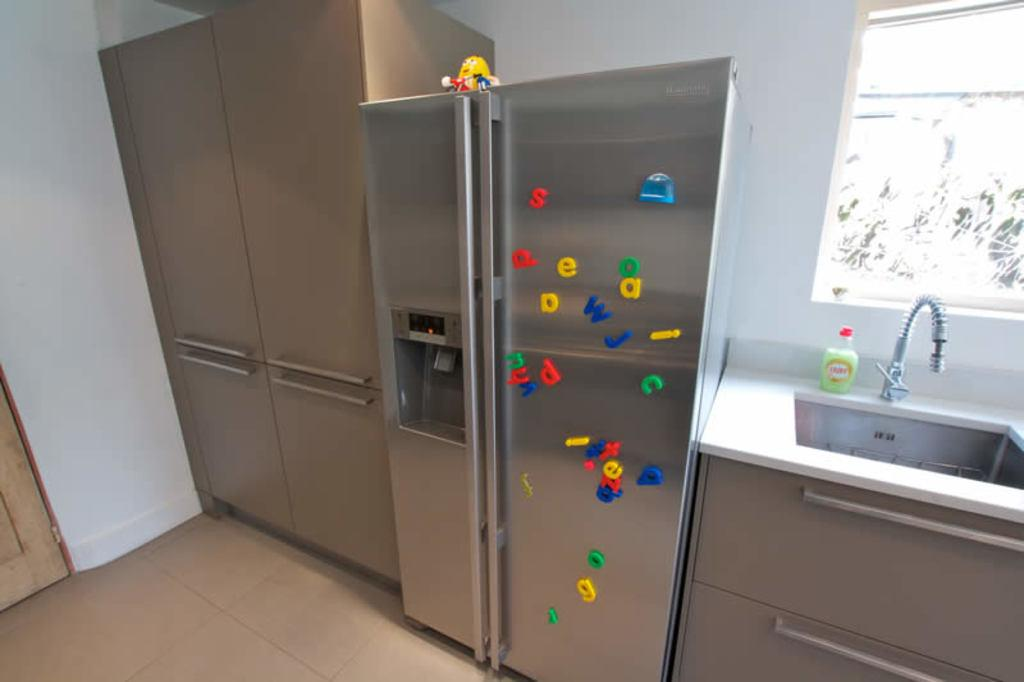cabinet_door: (214, 34, 364, 371), (726, 470, 1024, 636), (124, 48, 226, 346), (710, 611, 988, 682), (284, 381, 386, 557), (176, 362, 274, 508)
handle: (449, 98, 489, 658), (476, 96, 513, 665), (797, 472, 1024, 554), (769, 617, 936, 682), (276, 378, 378, 412), (268, 348, 371, 380), (168, 330, 250, 361), (176, 355, 254, 381)
